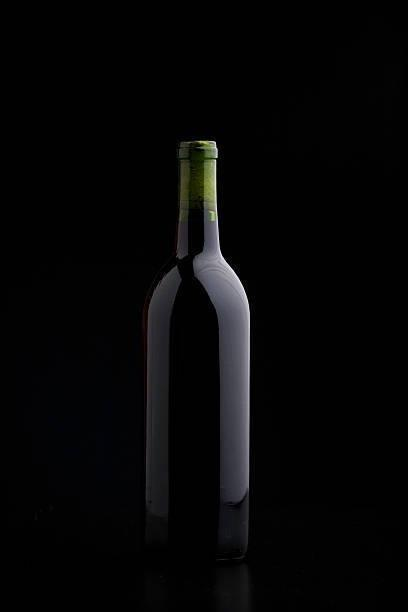bottle-glass: (138, 134, 257, 567)
